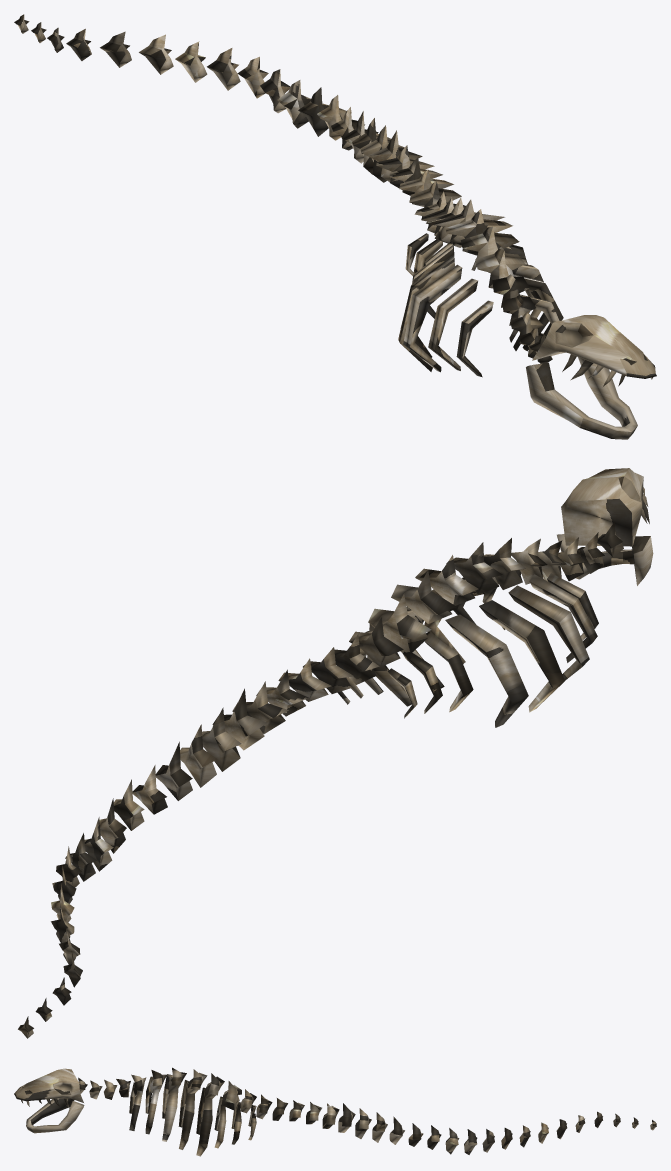
The model's file is sea_fbx_skelleton1.fbx.
The picture shows the model from 3 angles, top to bottom: view 1: azimuth 30°, elevation 25°; view 2: azimuth 150°, elevation 25°; view 3: azimuth 270°, elevation 25°; orthographic projection. The views are drawn at different scales.
Visible parts, largest first — view 1: polySurface1; view 2: polySurface1; view 3: polySurface1.
Part boxes in pixels (x1,y1,x2,y2): polySurface1: (14,14,656,439); polySurface1: (18,468,653,1038); polySurface1: (14,1067,656,1156).
Bounding box in the file's own units: 16.98 × 12.35 × 91.91.
